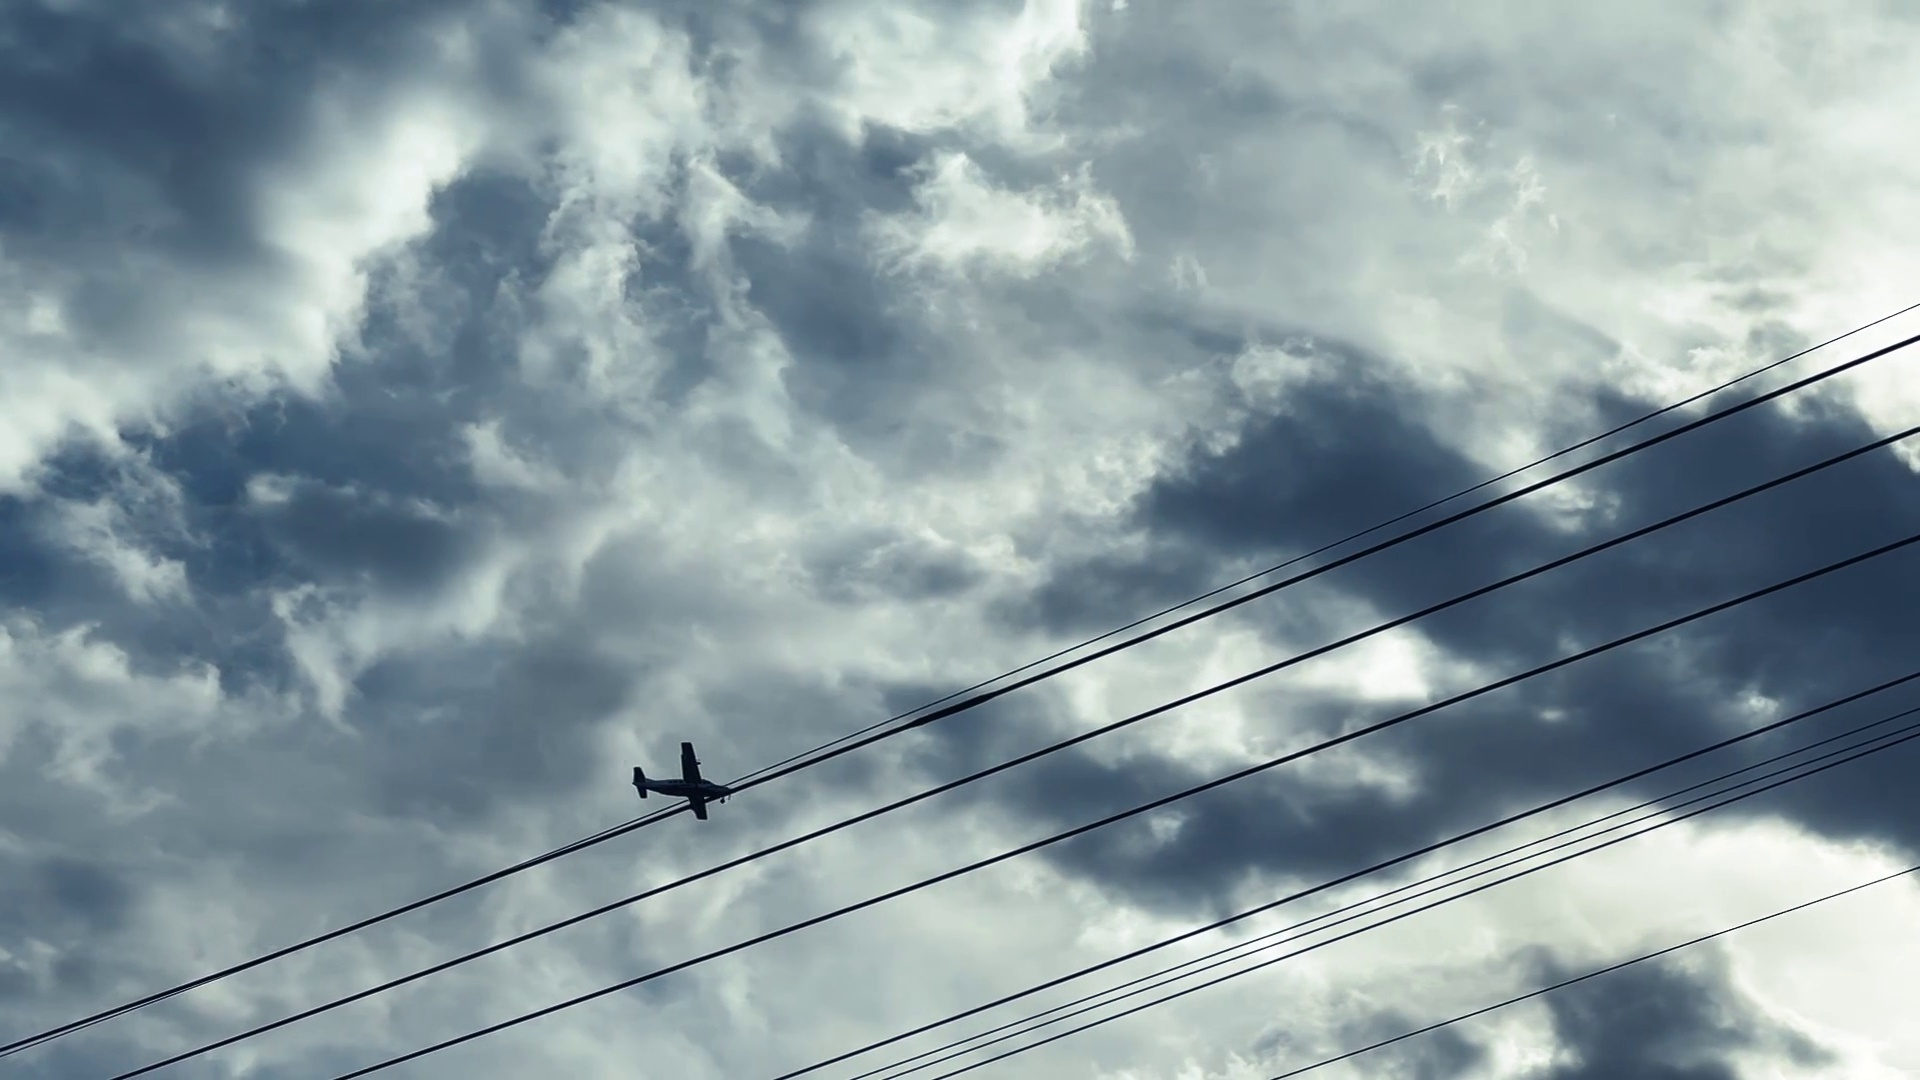plane: (630, 742, 735, 822)
